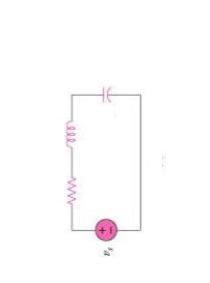resistor: (57, 168, 85, 215)
